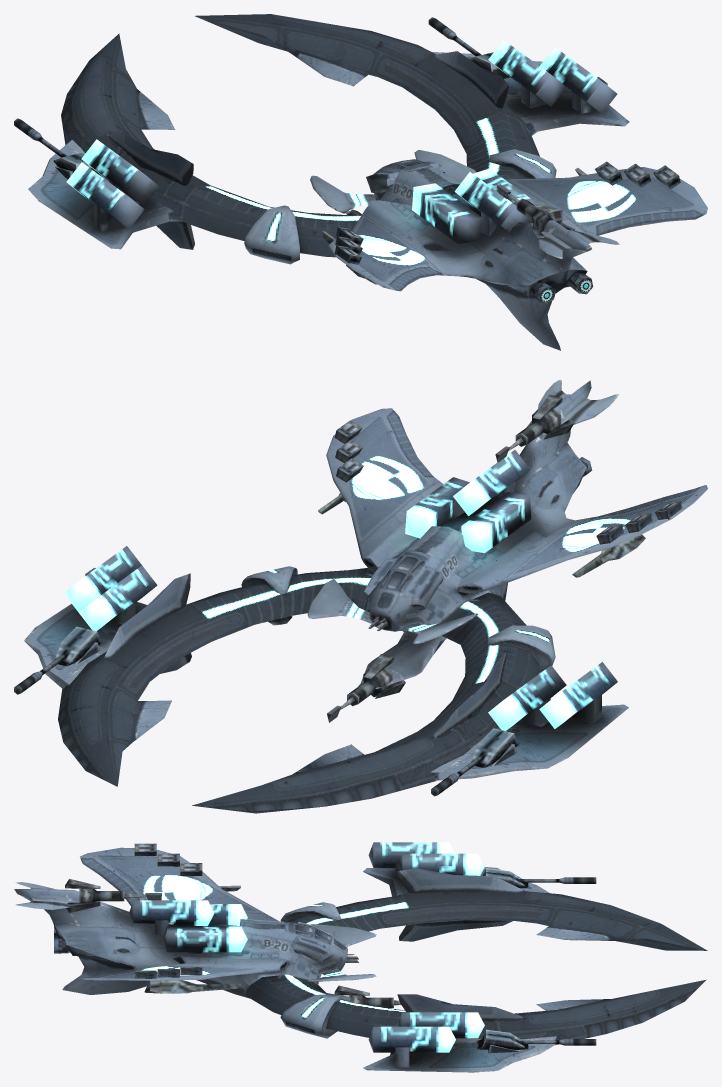
File: goliath-bastion.glb
3 renders of one model, top to bottom at view 1: azimuth 30°, elevation 25°; view 2: azimuth 150°, elevation 25°; view 3: azimuth 270°, elevation 25°, orthographic. The views are drawn at different scales.
Visible parts, largest first — view 1: main; view 2: main; view 3: main.
Part boxes in pixels (<box>): main: <box>14,14,707,350</box>; main: <box>14,379,707,813</box>; main: <box>14,842,707,1072</box>.
Bounding box in the file's own units: 141 × 42.65 × 200.
1 material, 1 textured.
